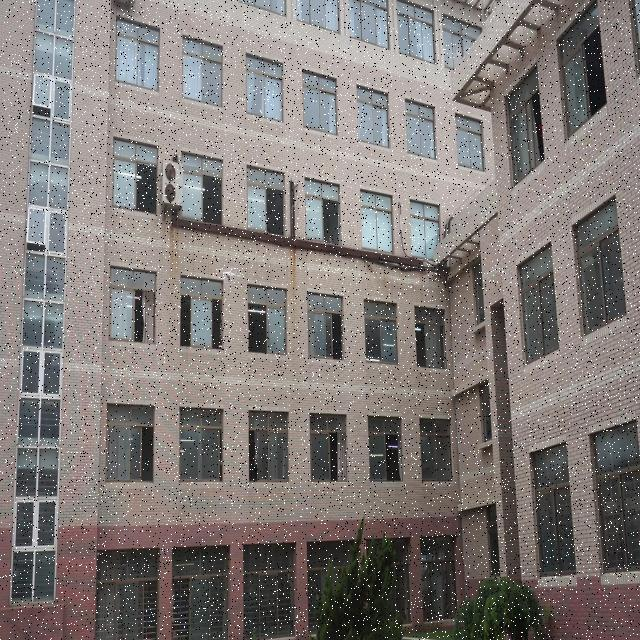UAV: (217, 266, 237, 282)
